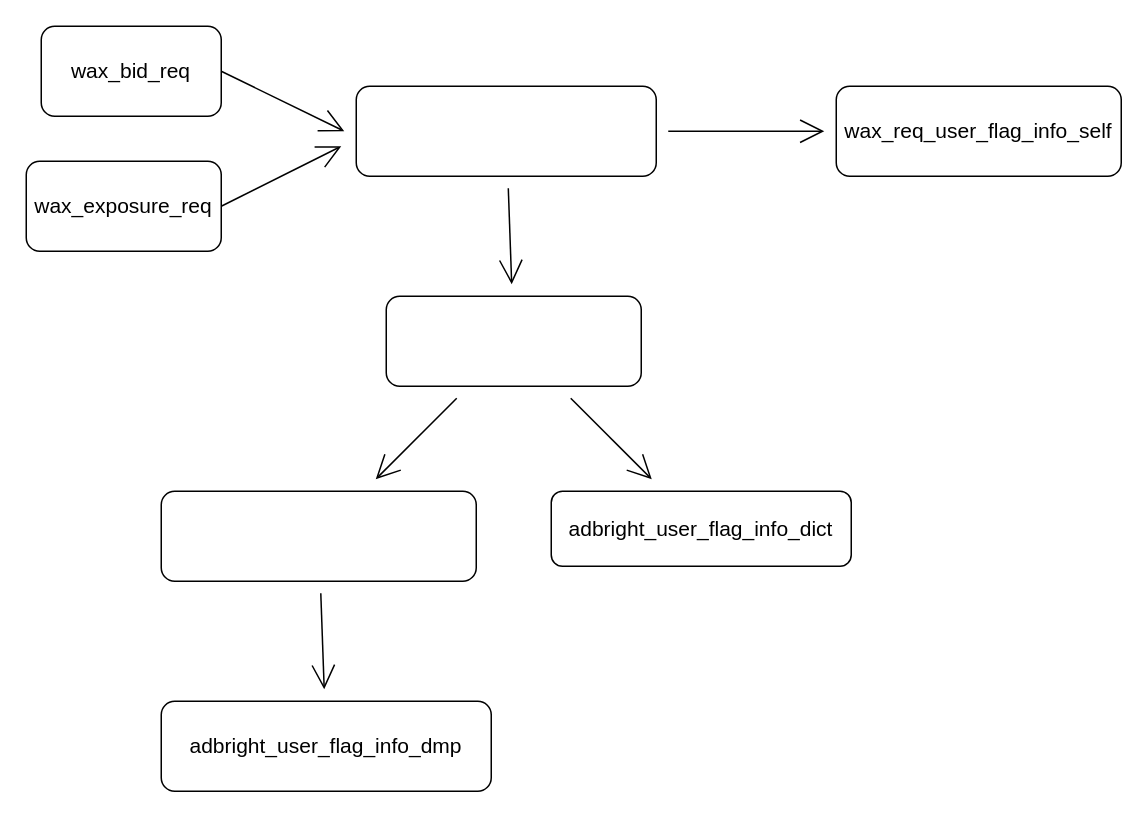
Some shapes in this 1148 by 818 pixel diagram are drawn without their labels. Each missing label, with the centre of its shape:
adbright_user_flag_info_new: the point at 318,535
adbright_user_info_dict: the point at 513,340
wax_req_user_flag_info: the point at 505,130
